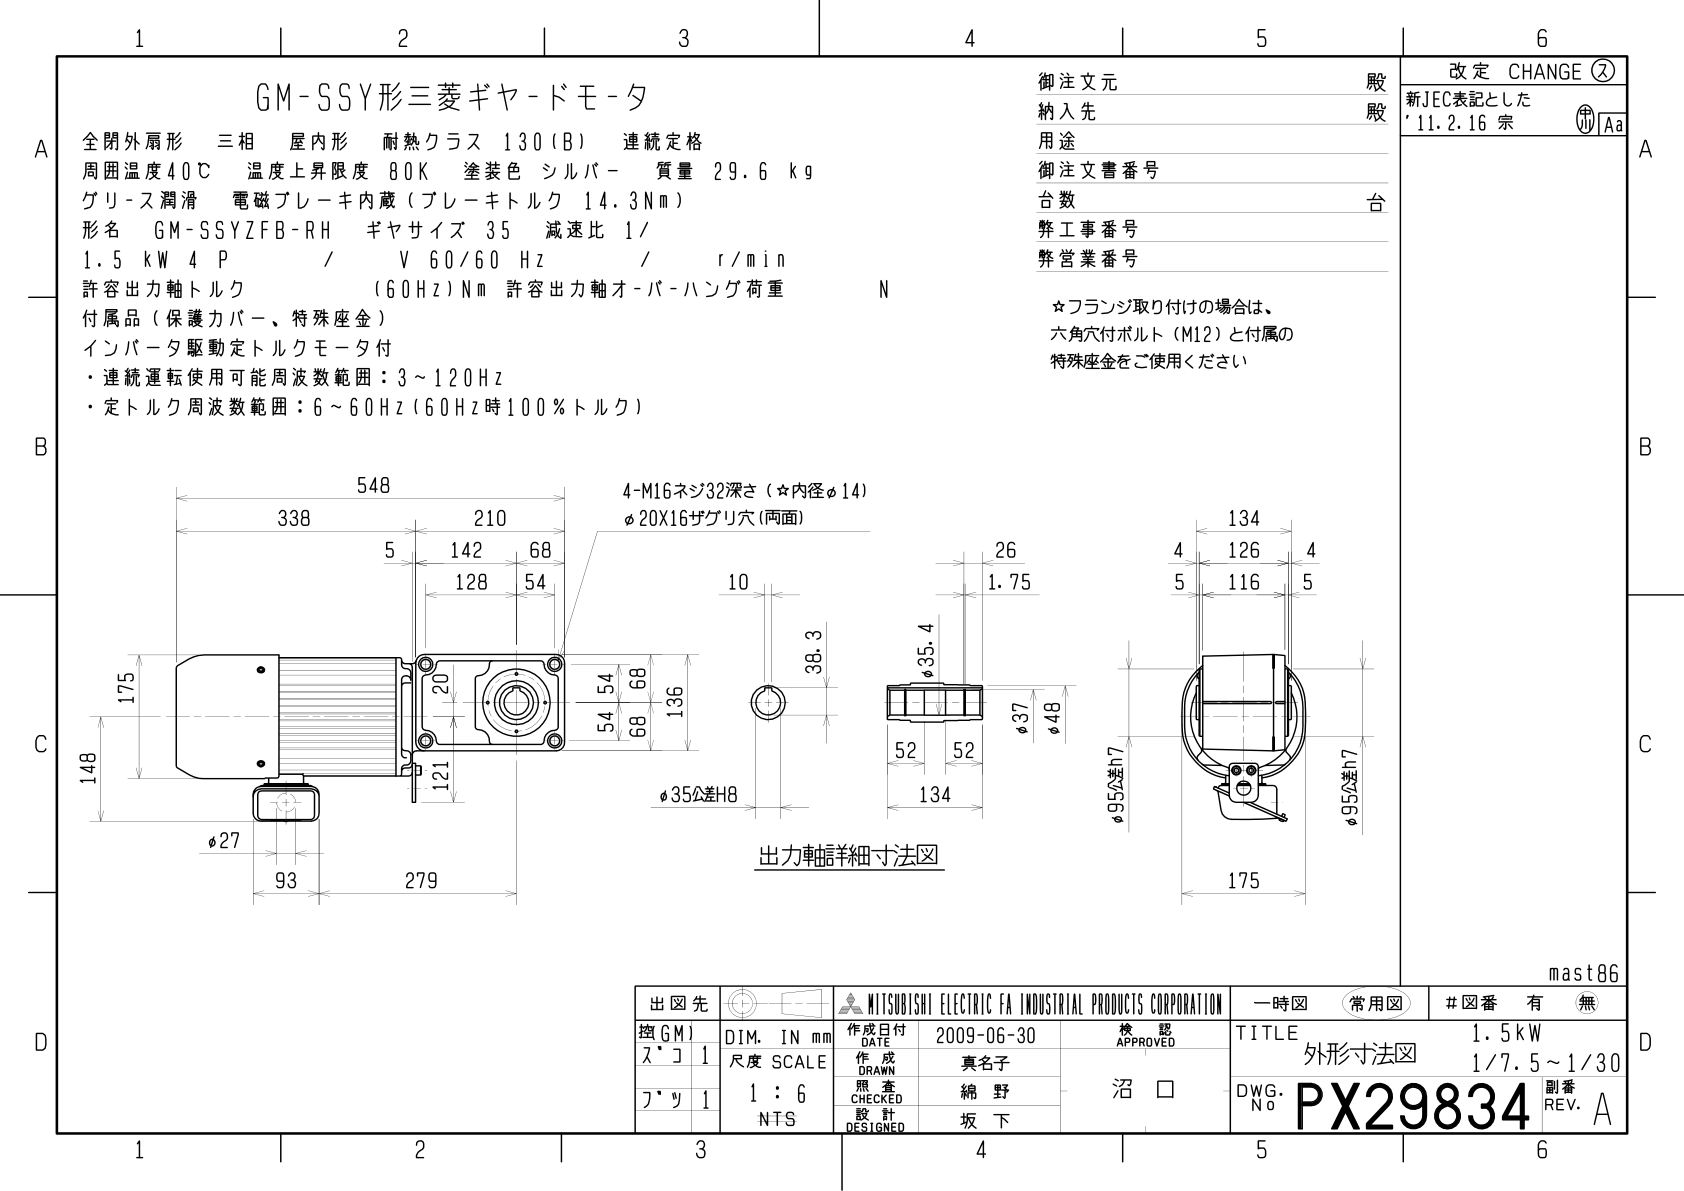GM_SSY_インバータ屋内_三相: (12, 15, 1684, 1191)
